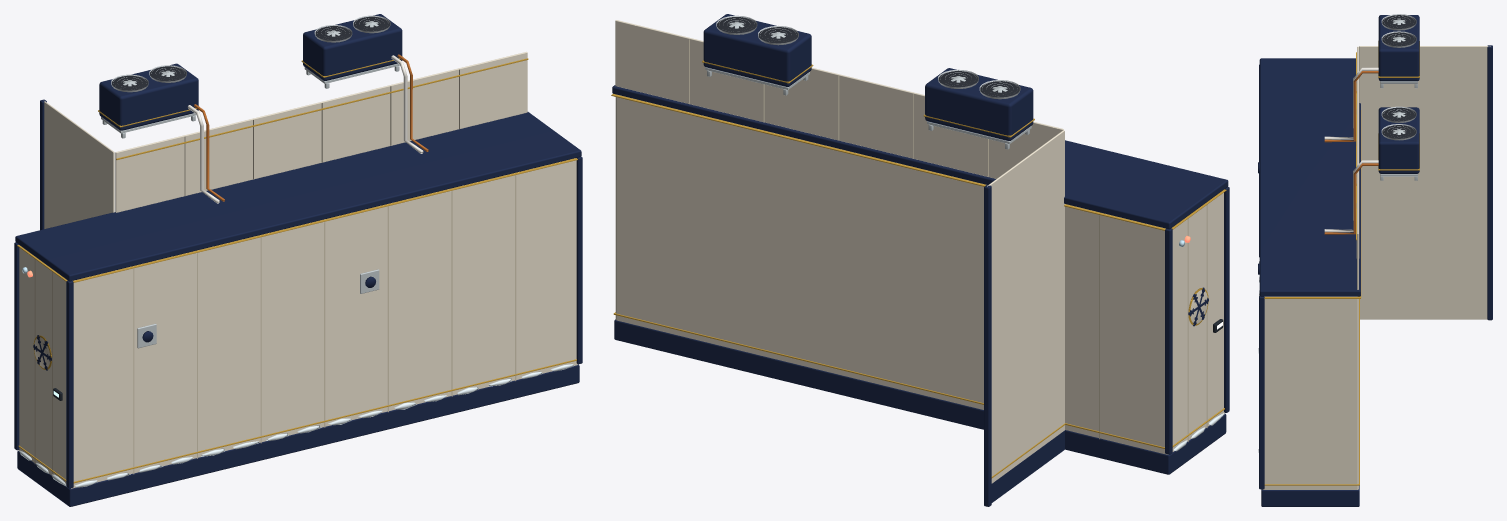
The model's file is coldroom_depotwing_T3.fbx.
3 renders of one model, left to right at view 1: azimuth 30°, elevation 25°; view 2: azimuth 150°, elevation 25°; view 3: azimuth 270°, elevation 25°, orthographic. The views are drawn at different scales.
Visible parts, largest first — view 1: Body; view 2: Body; view 3: Body.
Part boxes in pixels (left/top/right/bottom): Body: left=14, top=14, right=582, bottom=506; Body: left=611, top=14, right=1229, bottom=506; Body: left=1258, top=14, right=1492, bottom=506.
Size of the model in its own units: 8.11 by 5.09 by 3.43.
